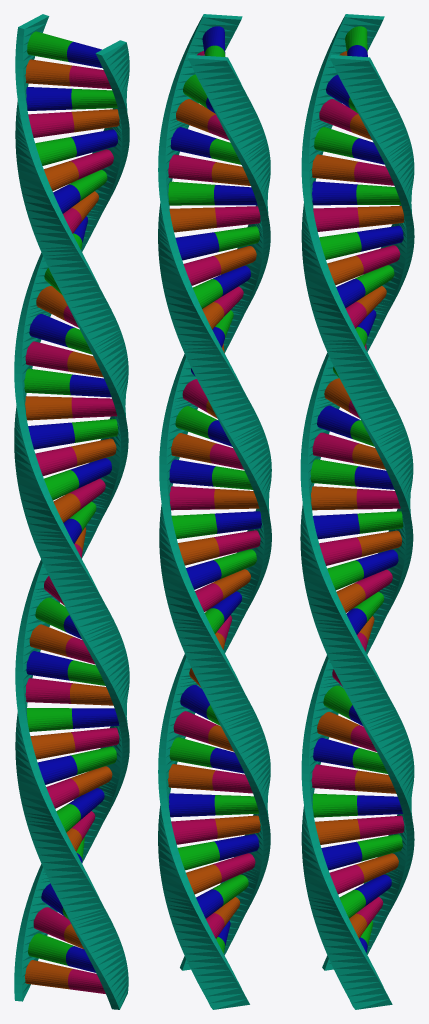
File: dna.obj
3 renders of one model, left to right at view 1: azimuth 30°, elevation 25°; view 2: azimuth 150°, elevation 25°; view 3: azimuth 330°, elevation 25°, orthographic.
Visible parts, largest first — view 1: Cube_Cube.001_Backbone, Cube_Cube.001_T, Cube_Cube.001_G, Cube_Cube.001_C, Cube_Cube.001_A; view 2: Cube_Cube.001_Backbone, Cube_Cube.001_A, Cube_Cube.001_T, Cube_Cube.001_C, Cube_Cube.001_G; view 3: Cube_Cube.001_Backbone, Cube_Cube.001_T, Cube_Cube.001_A, Cube_Cube.001_G, Cube_Cube.001_C.
Part boxes in pixels (bbox=[...]): Cube_Cube.001_Backbone: bbox=[14, 14, 129, 1009]; Cube_Cube.001_T: bbox=[24, 31, 118, 965]; Cube_Cube.001_G: bbox=[25, 59, 119, 989]; Cube_Cube.001_C: bbox=[25, 65, 119, 993]; Cube_Cube.001_A: bbox=[26, 42, 119, 972]; Cube_Cube.001_Backbone: bbox=[158, 14, 271, 1009]; Cube_Cube.001_A: bbox=[169, 26, 261, 946]; Cube_Cube.001_T: bbox=[168, 45, 259, 953]; Cube_Cube.001_C: bbox=[168, 51, 260, 938]; Cube_Cube.001_G: bbox=[168, 99, 260, 926]; Cube_Cube.001_Backbone: bbox=[300, 14, 414, 1009]; Cube_Cube.001_T: bbox=[310, 26, 403, 946]; Cube_Cube.001_A: bbox=[312, 45, 403, 952]; Cube_Cube.001_G: bbox=[311, 51, 404, 938]; Cube_Cube.001_C: bbox=[311, 99, 404, 927].
Bounding box in the file's own units: 8.77 × 80.59 × 8.77.
